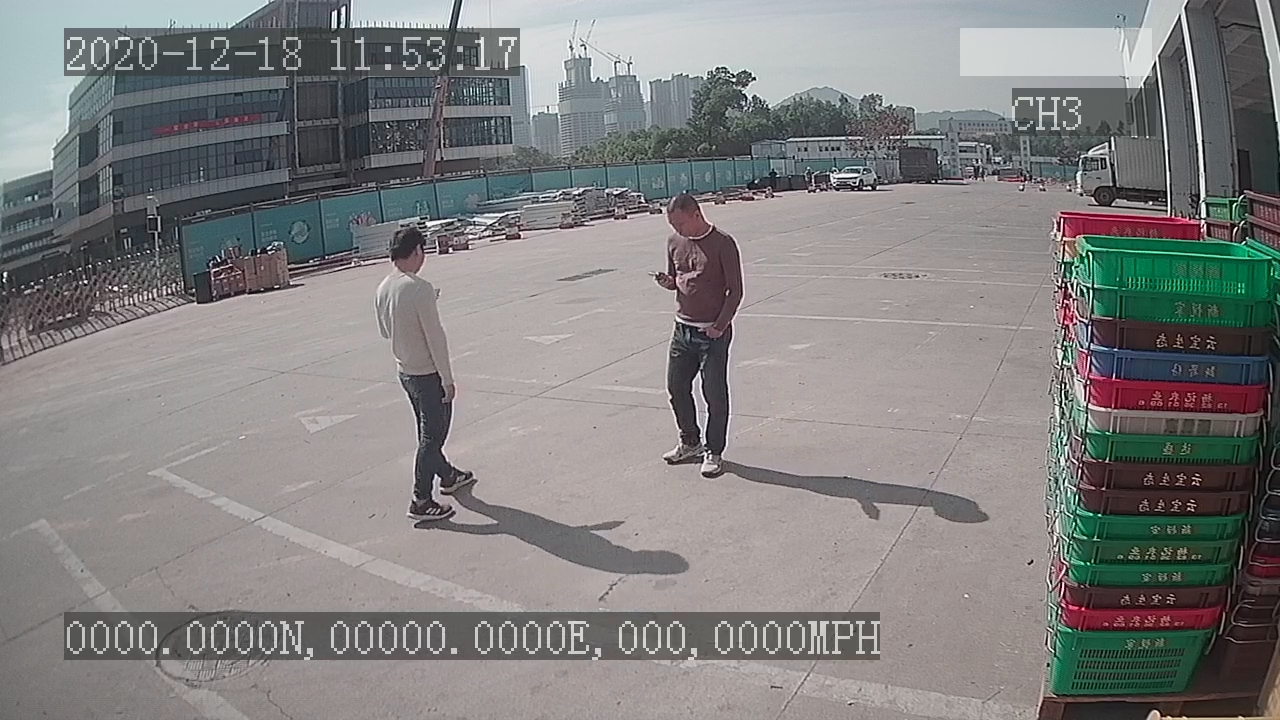person: (359, 224, 477, 533), (645, 185, 749, 488)
